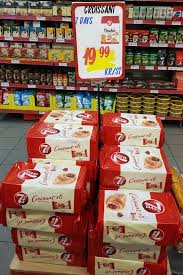7days: (99, 190, 177, 246), (6, 161, 79, 213), (100, 147, 169, 192), (28, 124, 94, 161), (5, 204, 81, 232), (101, 113, 162, 147)
